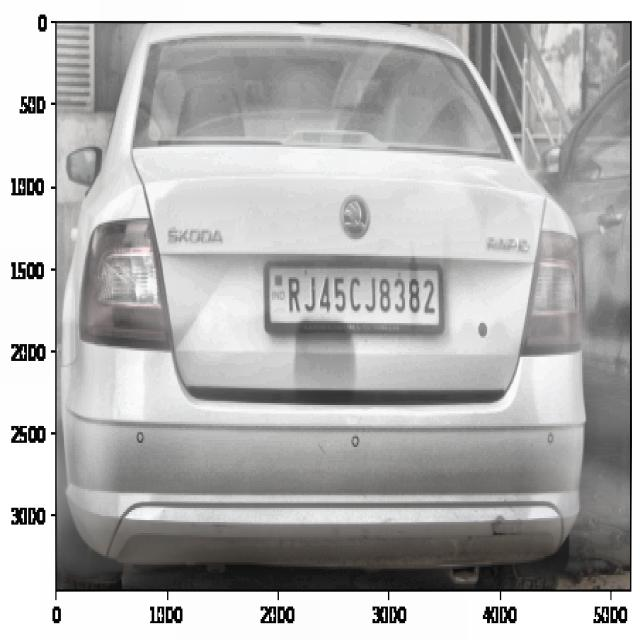license_plate: (279, 266, 442, 329)
